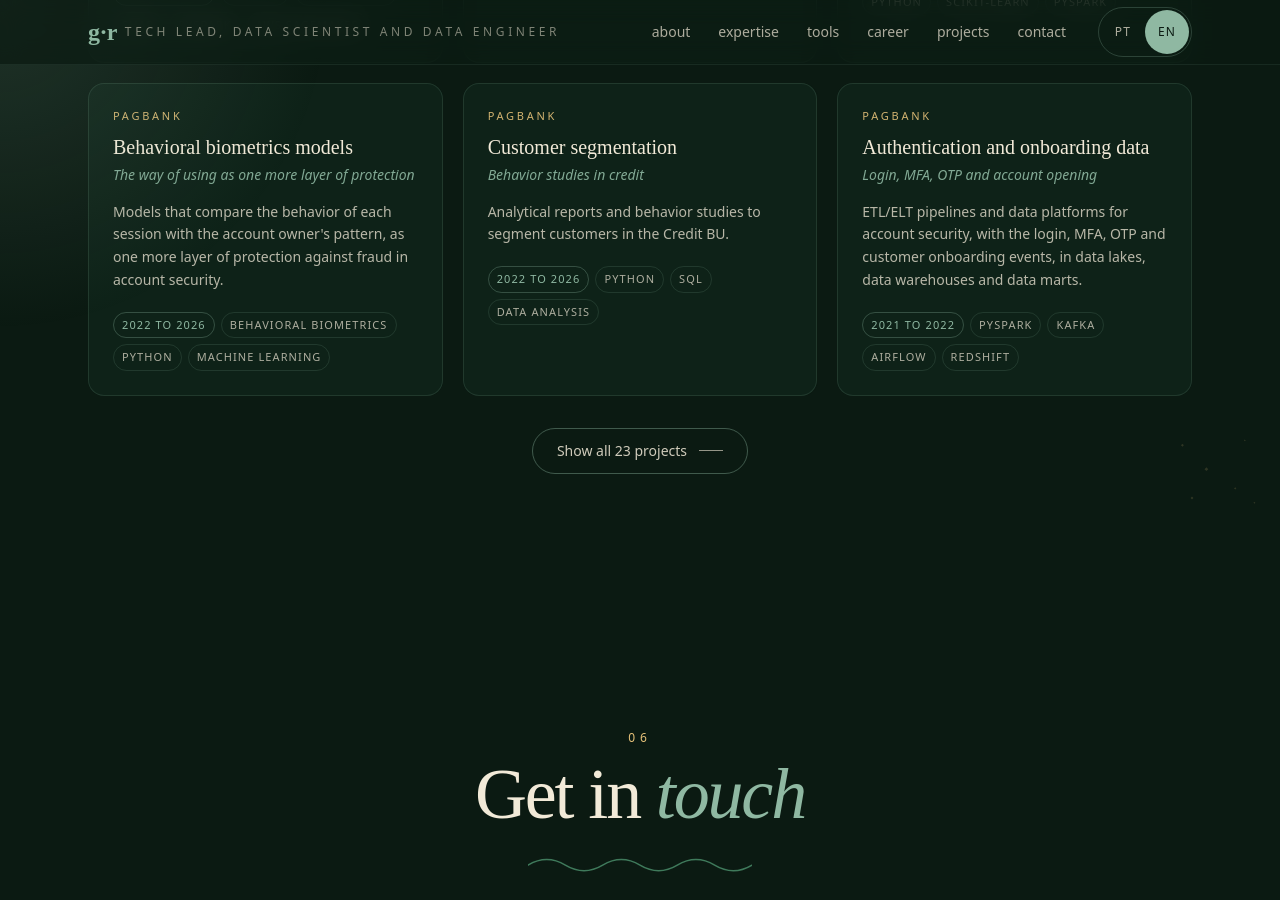
Test: App em inglês, seção por seção › Projetos: "Personal project" aparece nos projetos pessoais
(page scrolled)
Click the button "Show all 23 projects" at (640, 450), box [532,428,748,474]
(page scrolled)
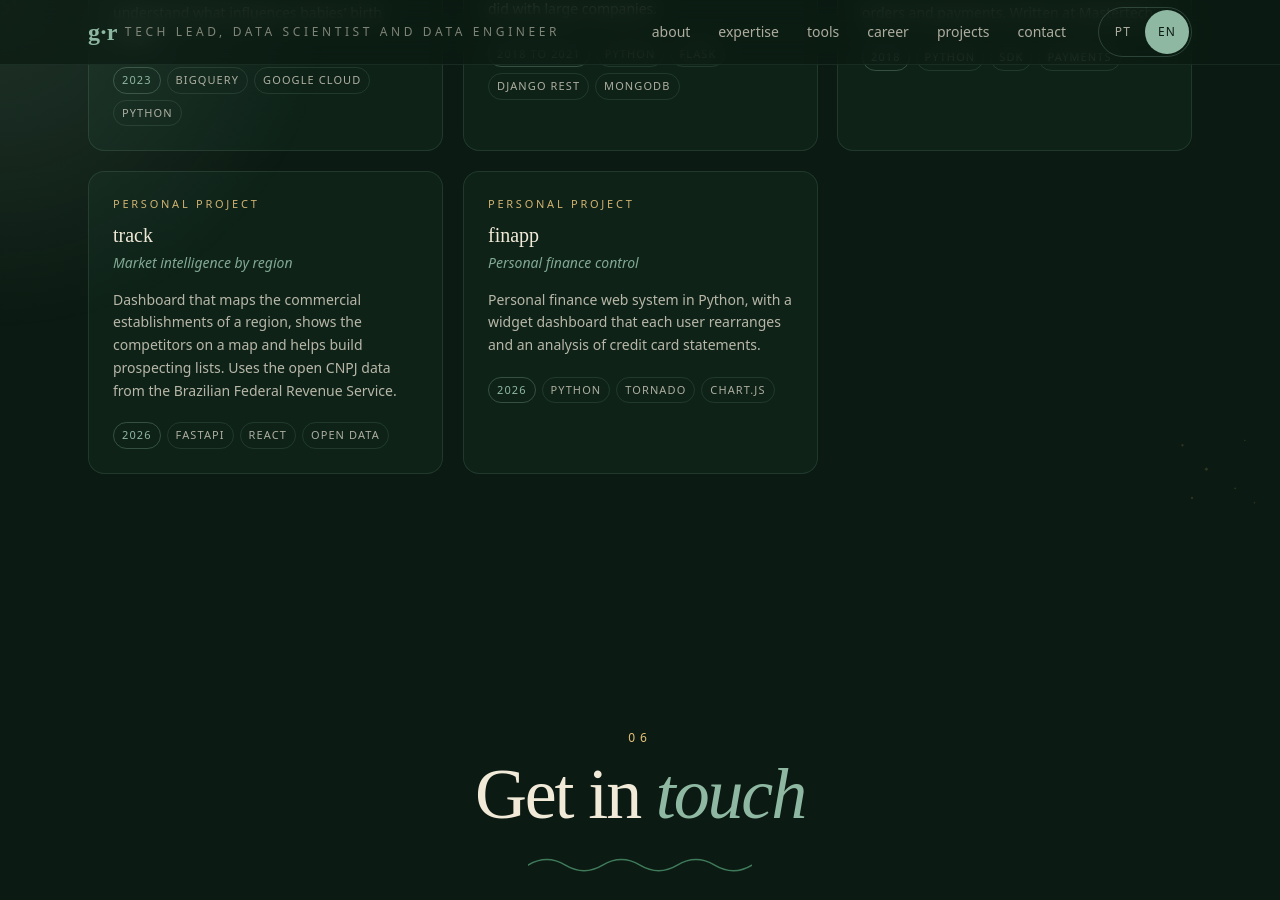
Now the text "Personal project" is shown 2 times, box [113,196,260,213]; [488,196,634,213]
